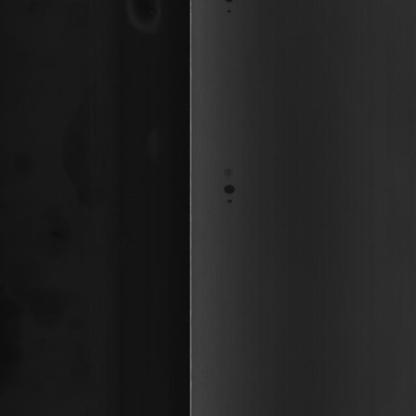oil_spot: (214, 161, 240, 213)
